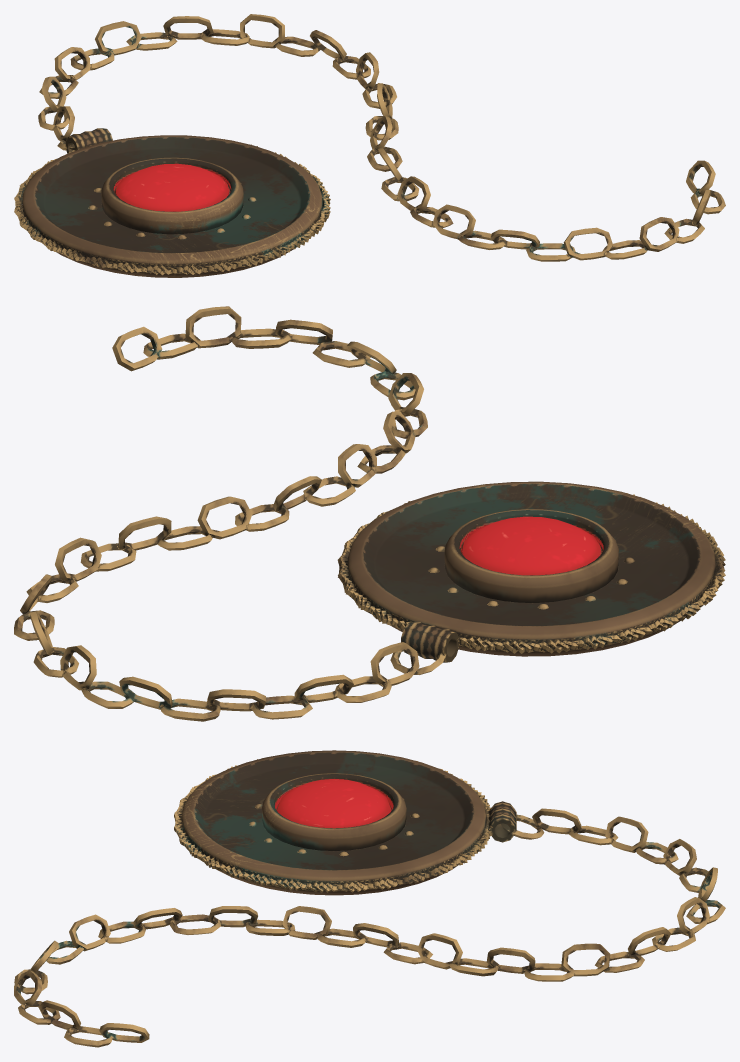
The model's file is SM_Amulet.fbx.
3 renders of one model, top to bottom at view 1: azimuth 30°, elevation 25°; view 2: azimuth 150°, elevation 25°; view 3: azimuth 270°, elevation 25°, orthographic. The views are drawn at different scales.
Visible parts, largest first — view 1: SM_Amulet; view 2: SM_Amulet; view 3: SM_Amulet.
Boxes of the visible parts, bbox=[...] form: SM_Amulet: bbox=[14, 14, 725, 277]; SM_Amulet: bbox=[14, 306, 725, 721]; SM_Amulet: bbox=[14, 750, 725, 1047].
Bounding box in the file's own units: 0.0976 × 0.00712 × 0.1032.
1 material, 1 textured.
